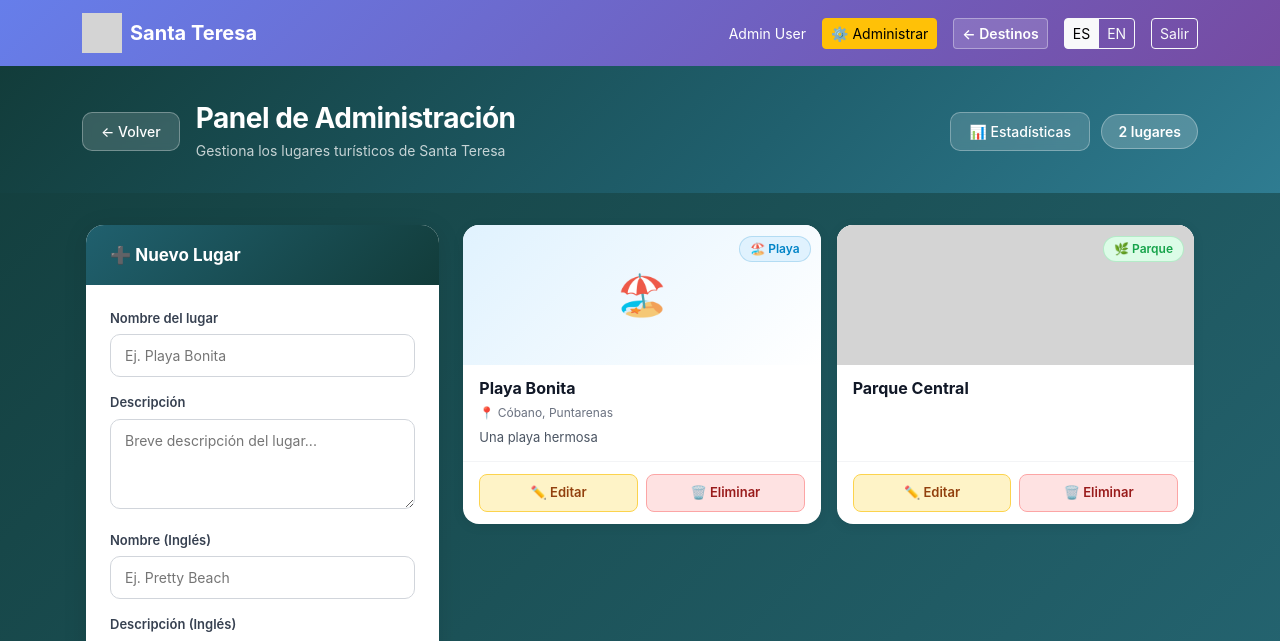
Test case: AdminPlacesPage › shows an error toast when deletePlace rejects
The width and height of the screenshot is (1280, 641).
Expected: the heading "Playa Bonita" is shown, [479,378,576,398]
Click the button "🗑️ Eliminar" below "Una playa hermosa" at [725, 493], box [646,474,805,512]
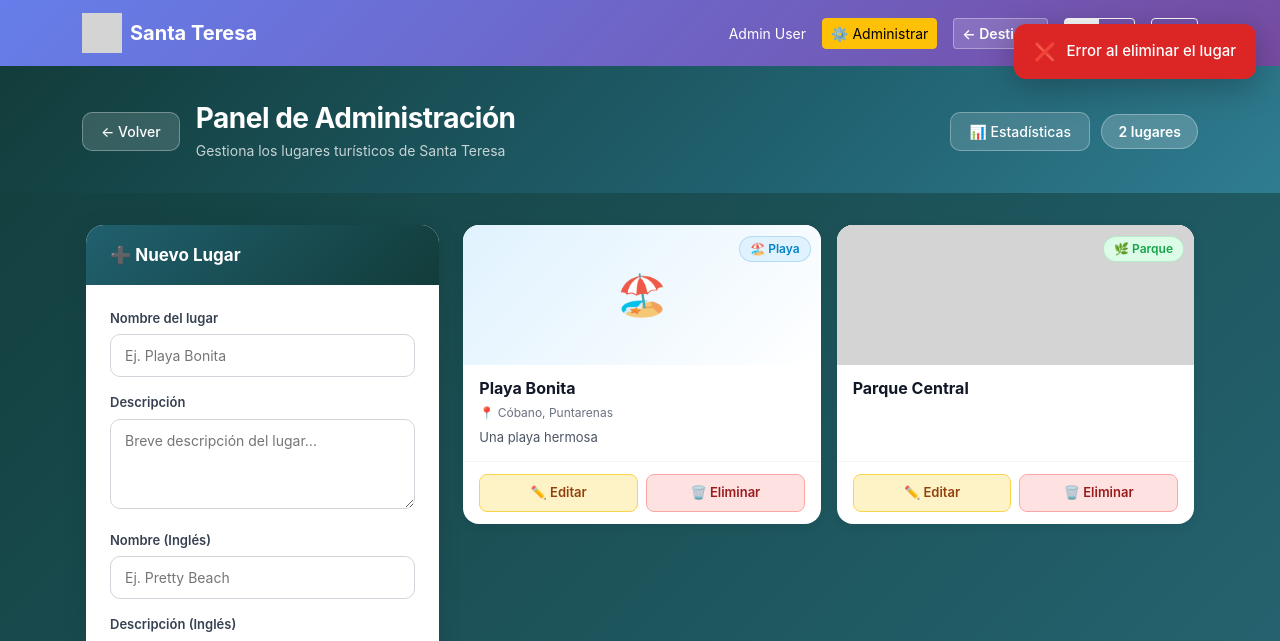
Expected: the text "Error al eliminar el lugar" is shown, [1066,41,1236,60]
